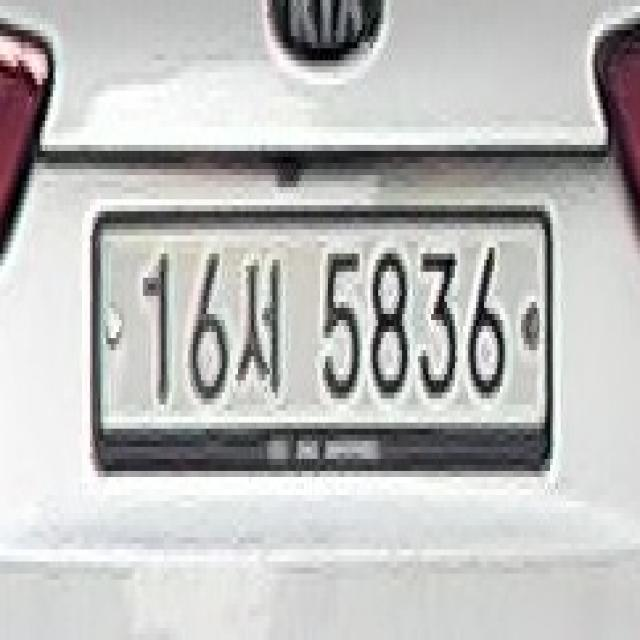1: (138, 235, 185, 410)
3: (412, 235, 466, 398)
5: (317, 242, 365, 410)
6: (185, 235, 235, 410), (463, 242, 513, 416)
8: (365, 236, 410, 404)
license_plate: (82, 187, 558, 495)
seo: (236, 242, 288, 416)
